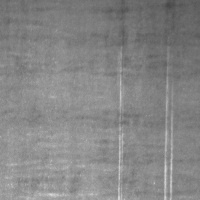scratches: (162, 71, 177, 199), (115, 58, 126, 199)
